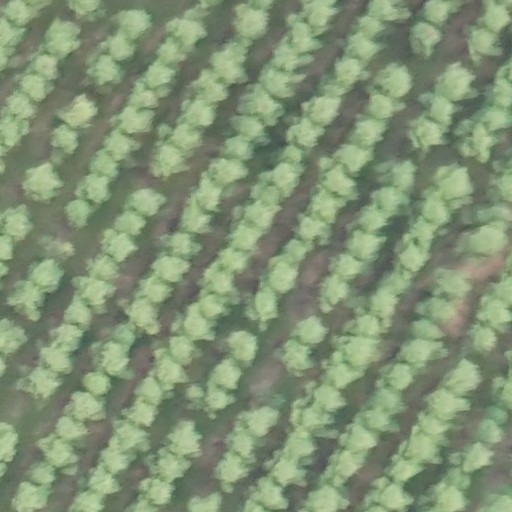eucalipto: (434, 62, 477, 105), (236, 85, 282, 125), (19, 164, 64, 203), (72, 273, 118, 309), (149, 142, 189, 183), (272, 339, 316, 376), (227, 114, 272, 150), (41, 16, 80, 57), (434, 166, 475, 205), (339, 335, 380, 374), (460, 122, 498, 164), (402, 431, 446, 467), (35, 435, 79, 470), (136, 270, 177, 307), (7, 281, 47, 318), (59, 95, 100, 131), (230, 7, 271, 43), (293, 396, 334, 432), (113, 5, 155, 40), (465, 225, 507, 260), (417, 193, 458, 228), (183, 303, 217, 345), (19, 366, 63, 398), (27, 255, 64, 293), (321, 163, 359, 200), (166, 419, 203, 457), (96, 228, 137, 262), (150, 347, 184, 388), (201, 258, 238, 295), (385, 450, 422, 487), (127, 181, 166, 216), (72, 172, 112, 206), (407, 118, 447, 152), (11, 479, 52, 512), (193, 170, 224, 213), (178, 202, 215, 238), (376, 60, 412, 97), (211, 452, 248, 488), (226, 427, 261, 465), (240, 405, 281, 437), (99, 439, 135, 475), (210, 50, 247, 85), (193, 70, 230, 105), (99, 340, 134, 377), (306, 91, 343, 126), (257, 66, 296, 99), (1, 203, 33, 243), (433, 270, 473, 302), (401, 338, 441, 370), (444, 361, 484, 393), (67, 392, 108, 423), (104, 127, 139, 163), (270, 455, 306, 490), (267, 257, 301, 294), (381, 358, 418, 392), (465, 27, 503, 60), (341, 422, 379, 455), (417, 293, 456, 325), (429, 483, 472, 512), (357, 405, 397, 436), (425, 392, 466, 422), (407, 24, 442, 59), (315, 277, 350, 312), (371, 479, 409, 511), (153, 450, 192, 481), (49, 323, 86, 355), (349, 115, 386, 147), (135, 478, 177, 506), (325, 363, 364, 393), (224, 331, 259, 364), (84, 252, 121, 283), (129, 300, 160, 337), (486, 63, 512, 107), (116, 106, 154, 136), (346, 230, 384, 260), (346, 313, 388, 340), (371, 188, 410, 217), (113, 420, 147, 453), (269, 42, 309, 70), (167, 333, 199, 368), (324, 452, 360, 483), (17, 72, 54, 102), (124, 82, 161, 112), (334, 145, 371, 175), (312, 383, 349, 413), (328, 253, 366, 282), (229, 221, 262, 254), (87, 465, 121, 497), (142, 64, 177, 95), (289, 119, 324, 150), (241, 198, 277, 228), (39, 347, 76, 376), (62, 198, 94, 231), (132, 375, 166, 406), (151, 255, 190, 282), (54, 415, 93, 442), (90, 57, 125, 87), (1, 316, 26, 358), (293, 315, 328, 345), (162, 232, 202, 258), (169, 17, 206, 45), (282, 430, 319, 458), (306, 487, 349, 511), (211, 358, 242, 391), (52, 122, 82, 156), (367, 91, 401, 121), (286, 22, 321, 51), (354, 207, 389, 236), (253, 286, 279, 325), (211, 157, 247, 185), (369, 388, 405, 416), (405, 217, 437, 248), (256, 481, 288, 512), (179, 98, 212, 128), (396, 242, 429, 272), (154, 38, 188, 67), (170, 123, 204, 152), (477, 107, 512, 135), (89, 147, 121, 177), (273, 160, 303, 192), (462, 442, 492, 474), (331, 54, 364, 83), (370, 289, 399, 322), (4, 91, 39, 118), (410, 319, 446, 345), (479, 2, 509, 33), (388, 161, 418, 192), (311, 194, 343, 223), (426, 96, 458, 125), (417, 409, 449, 438), (112, 208, 146, 235), (126, 400, 160, 427), (299, 217, 333, 244), (341, 38, 379, 62), (219, 248, 250, 277), (480, 303, 512, 331), (1, 115, 28, 148), (221, 137, 255, 163), (199, 296, 234, 321), (82, 368, 113, 396), (67, 489, 104, 512), (364, 1, 404, 22), (472, 418, 503, 445), (304, 1, 336, 27), (3, 1, 36, 26), (106, 35, 135, 62), (204, 390, 233, 417), (467, 330, 496, 357), (64, 302, 94, 328), (349, 16, 384, 38), (421, 1, 449, 27), (68, 1, 104, 21), (256, 184, 283, 210), (485, 204, 512, 230), (445, 466, 471, 493), (30, 54, 59, 78), (113, 322, 139, 348), (492, 171, 512, 203), (493, 274, 512, 307), (27, 462, 55, 484), (494, 374, 512, 408), (285, 236, 310, 260), (485, 405, 509, 428)
